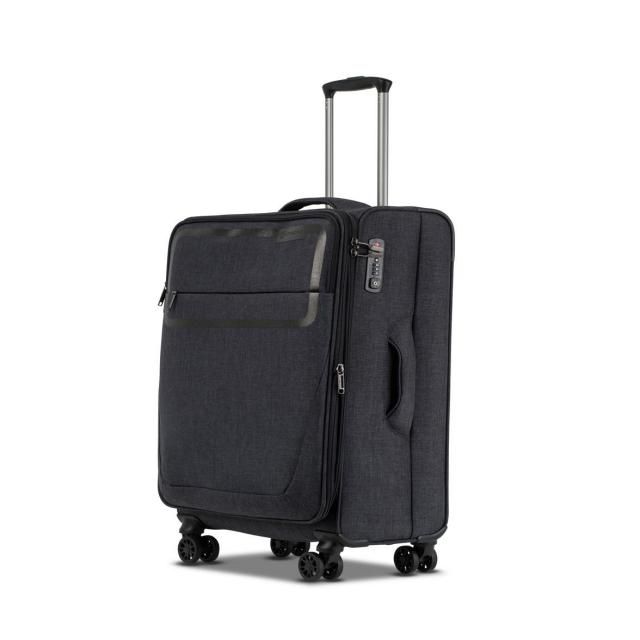luggage: (150, 193, 462, 548)
